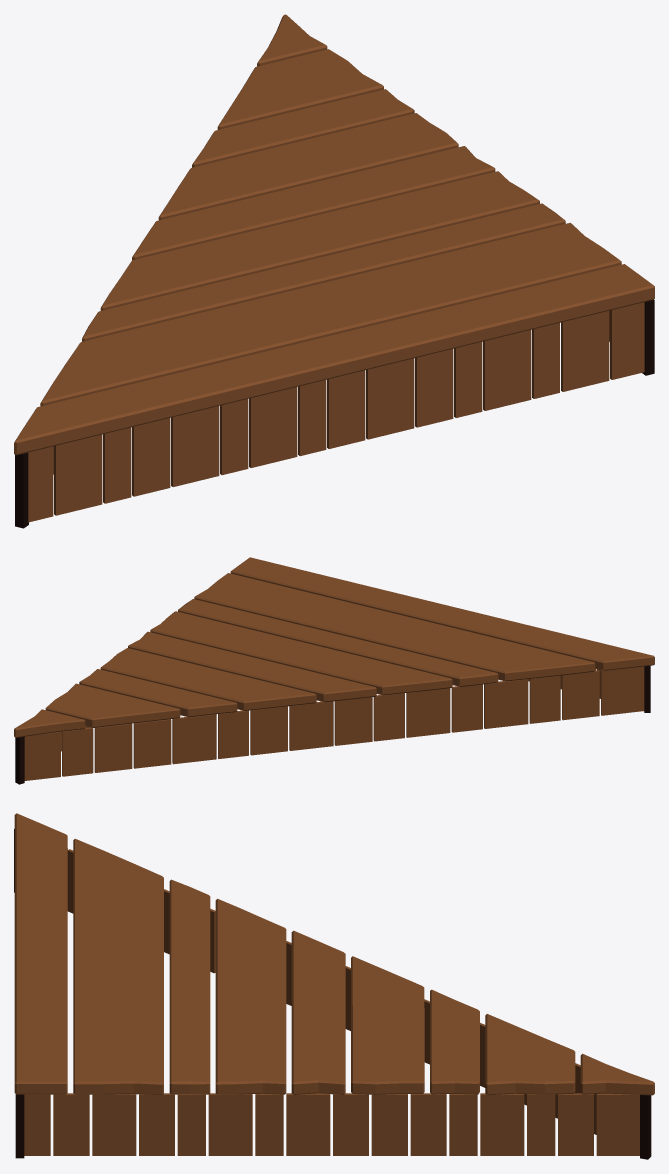
File: ww_foundation_f.glb
3 renders of one model, top to bottom at view 1: azimuth 30°, elevation 25°; view 2: azimuth 150°, elevation 25°; view 3: azimuth 270°, elevation 25°, orthographic. The views are drawn at different scales.
Visible parts, largest first — view 1: Foundation_F; view 2: Foundation_F; view 3: Foundation_F.
Boxes of the visible parts, x1=… form: Foundation_F: x1=14, y1=14, x2=654, y2=528; Foundation_F: x1=14, y1=557, x2=654, y2=784; Foundation_F: x1=14, y1=813, x2=654, y2=1159.
Bounding box in the file's own units: 5.28 × 0.6948 × 5.28.
